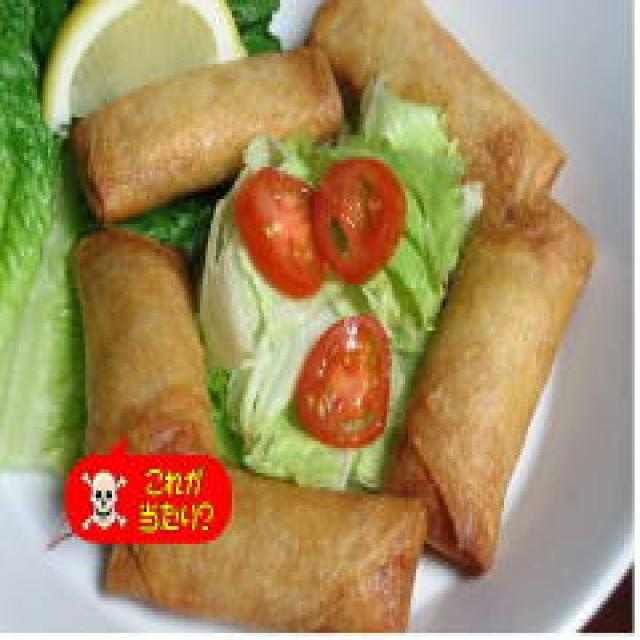鸡蛋料理: (59, 25, 336, 235)
